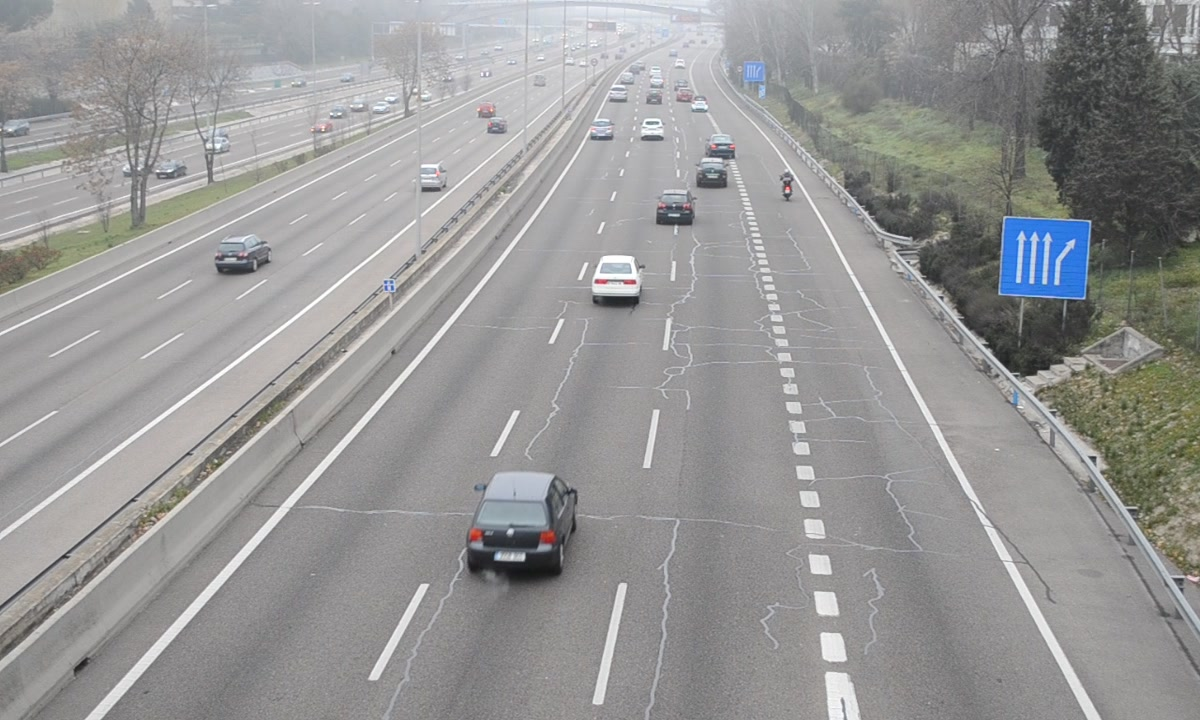car: (466, 473, 579, 566), (593, 254, 645, 299), (656, 189, 696, 226), (696, 157, 728, 189), (706, 133, 738, 158), (639, 117, 666, 141), (589, 118, 614, 140)
motorcycle: (779, 169, 797, 203)
